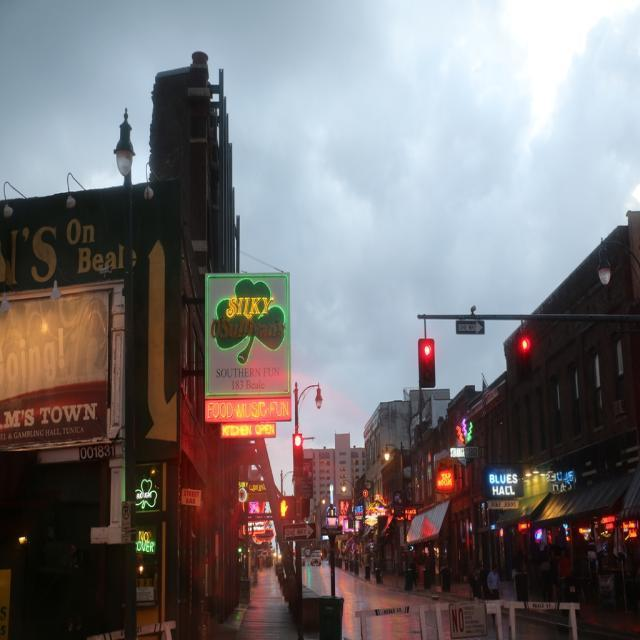traffic light: (418, 338, 436, 387), (517, 335, 533, 378)
